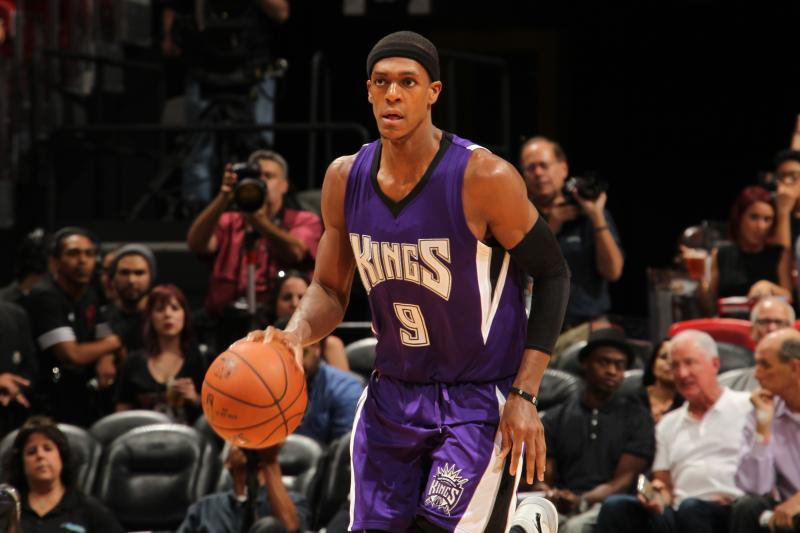basketball: (199, 340, 307, 450)
